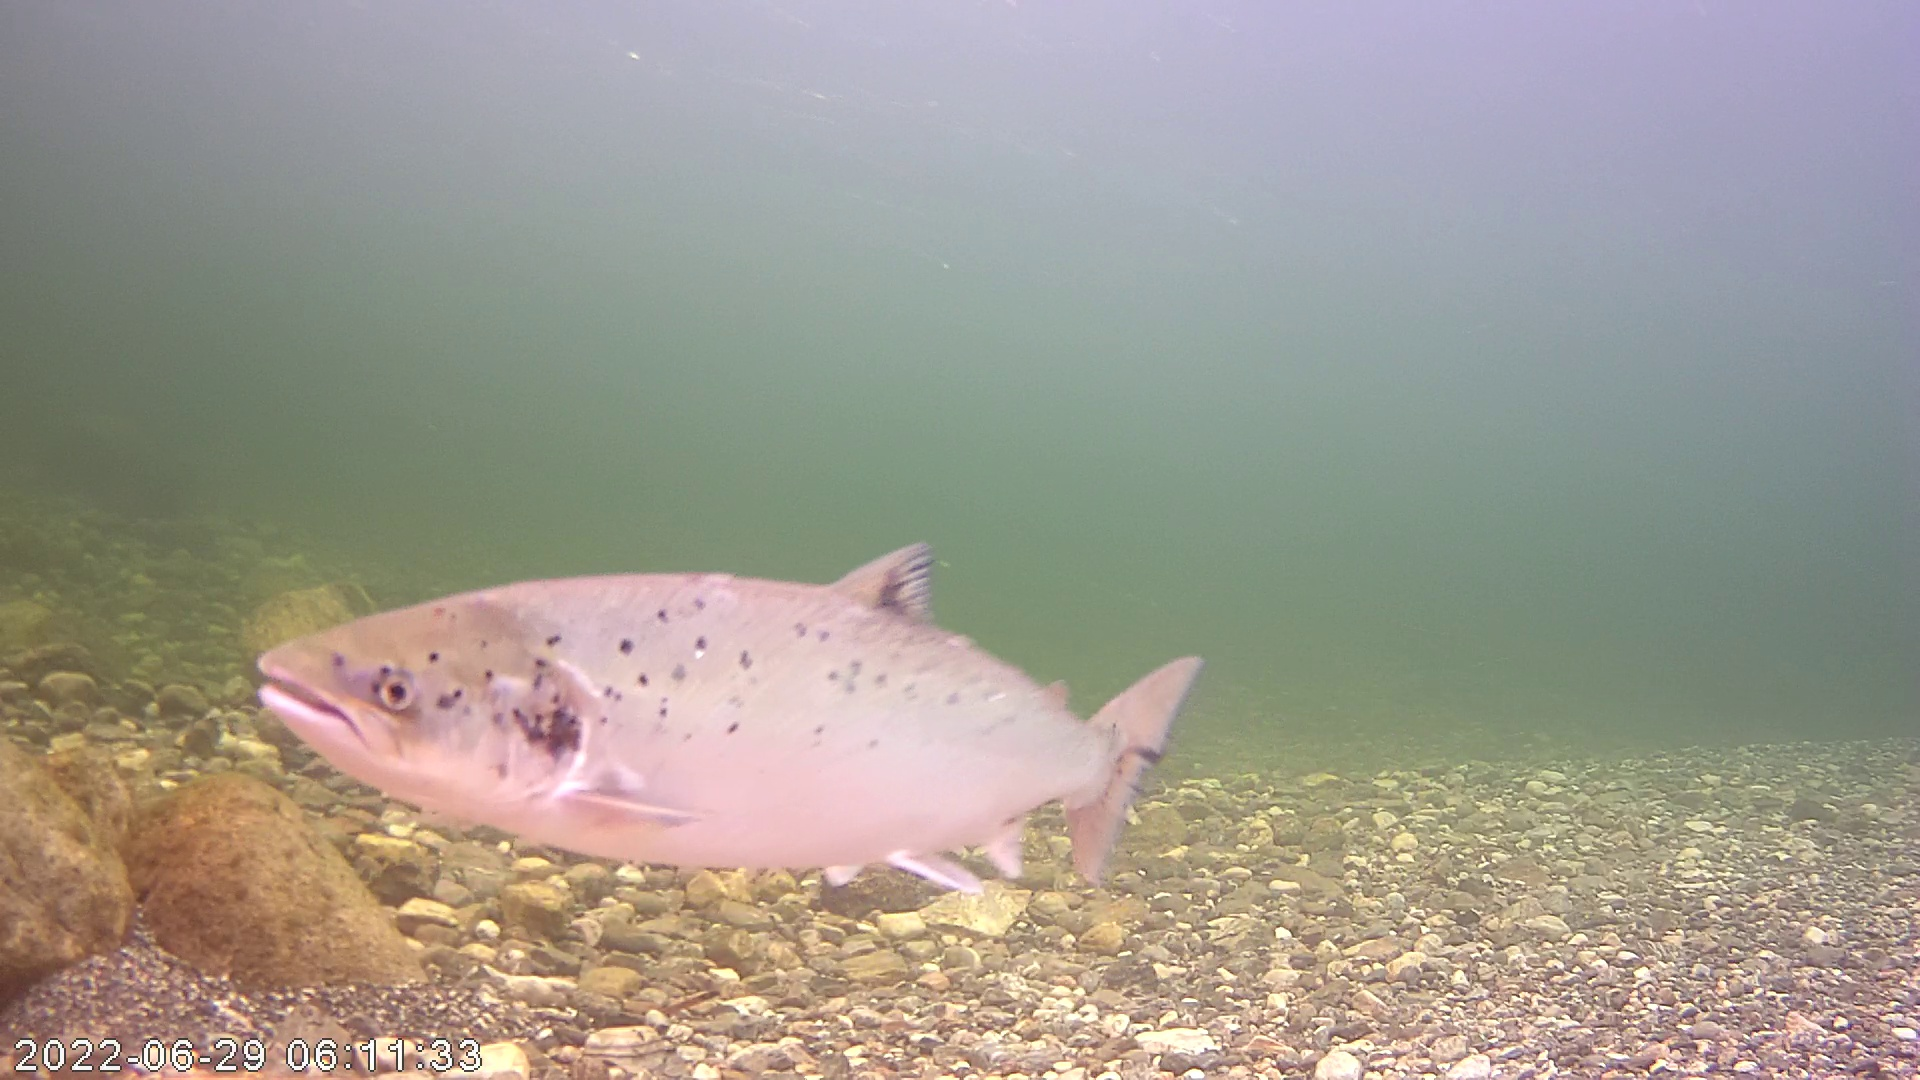salmon: (251, 436, 1203, 903)
